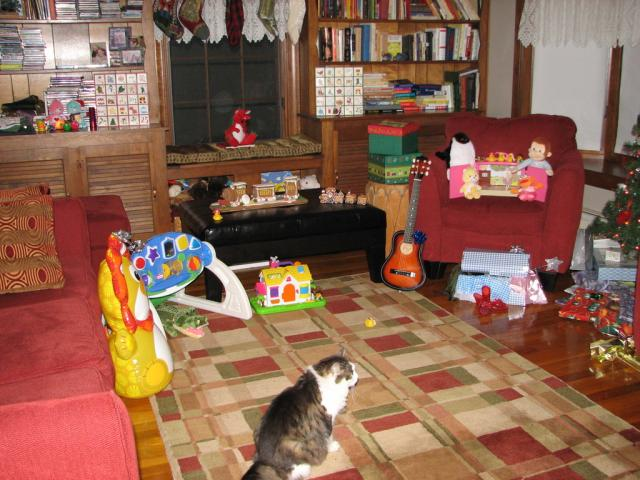Cat: (243, 348, 360, 480)
